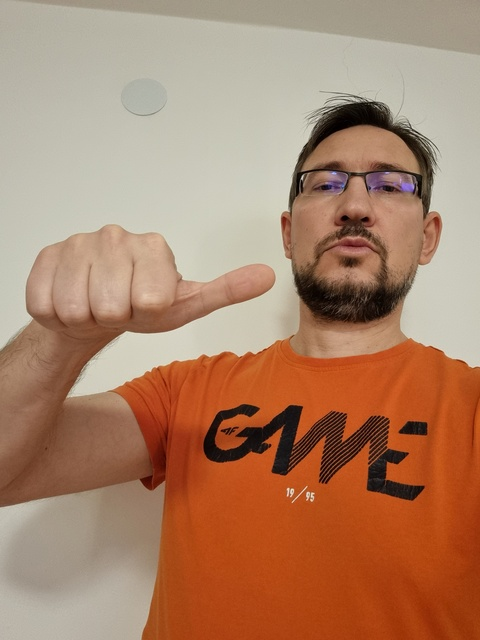GestBack: (25, 226, 275, 334)
